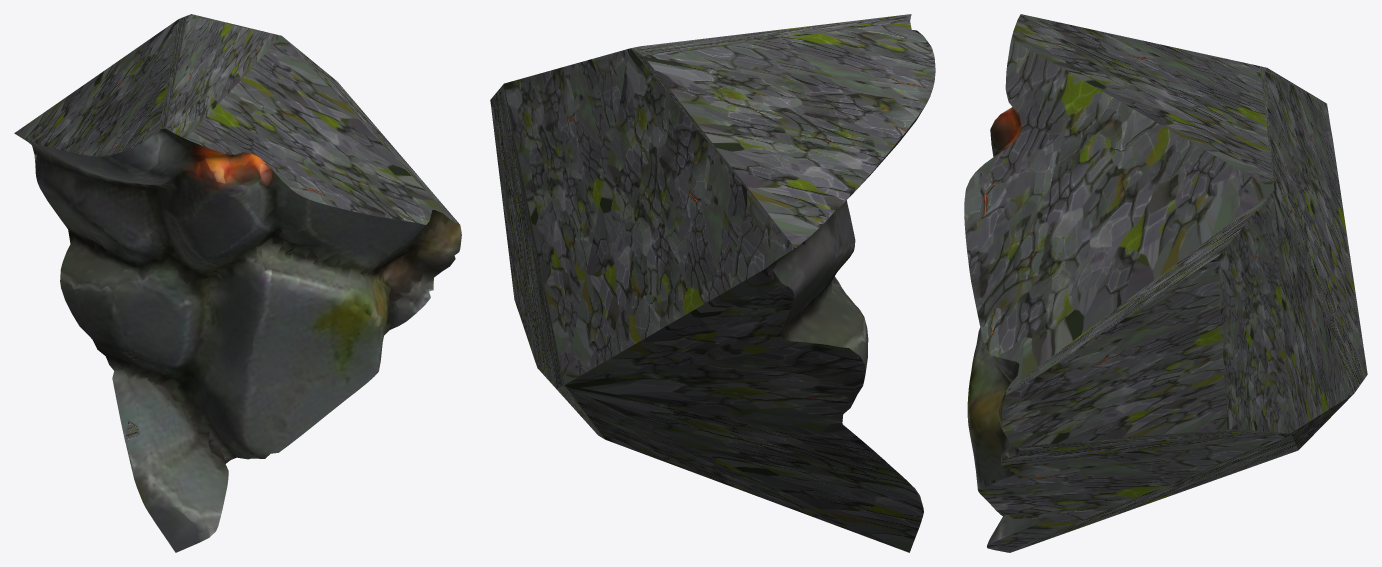
File: Frag_03.gltf
3 views of the same model, side by side, from view 1: azimuth 30°, elevation 25°; view 2: azimuth 150°, elevation 25°; view 3: azimuth 270°, elevation 25° (orthographic). The views are drawn at different scales.
Parts seen in each view (by area): view 1: Frag_03; view 2: Frag_03; view 3: Frag_03.
Part boxes in pixels (<box>): Frag_03: <box>14,14,461,552</box>; Frag_03: <box>490,14,935,552</box>; Frag_03: <box>964,14,1367,552</box>.
Bounding box in the file's own units: 0.3217 × 0.4092 × 0.2694.
1 material, 1 textured.
